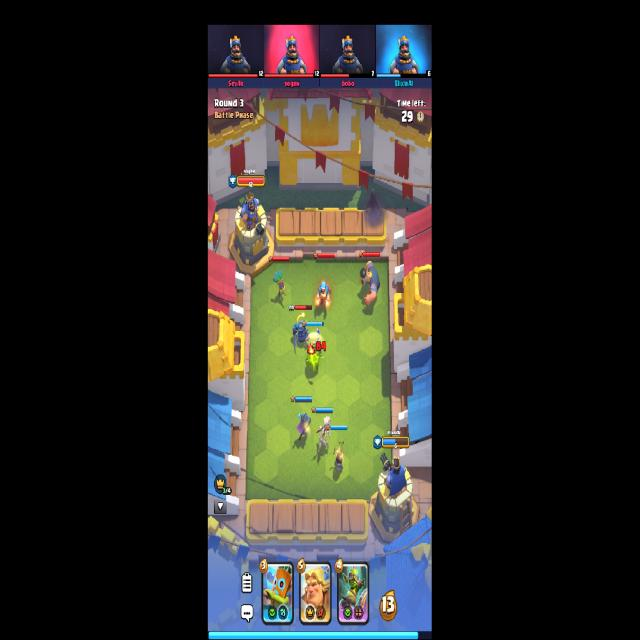card_dart_goblin: (262, 561, 294, 624)
card_goblin_machine: (336, 561, 369, 625)
card_golden_knight: (299, 562, 331, 626)
dart_goblin: (272, 268, 288, 299)
mini_pekka: (291, 322, 311, 350)
musketeer: (297, 412, 311, 443)
prince: (304, 329, 324, 372)
princess: (334, 442, 346, 470)
royal_giant: (359, 260, 382, 308)
skeleton_dragon: (317, 416, 331, 455)
wizard: (314, 279, 333, 309)
